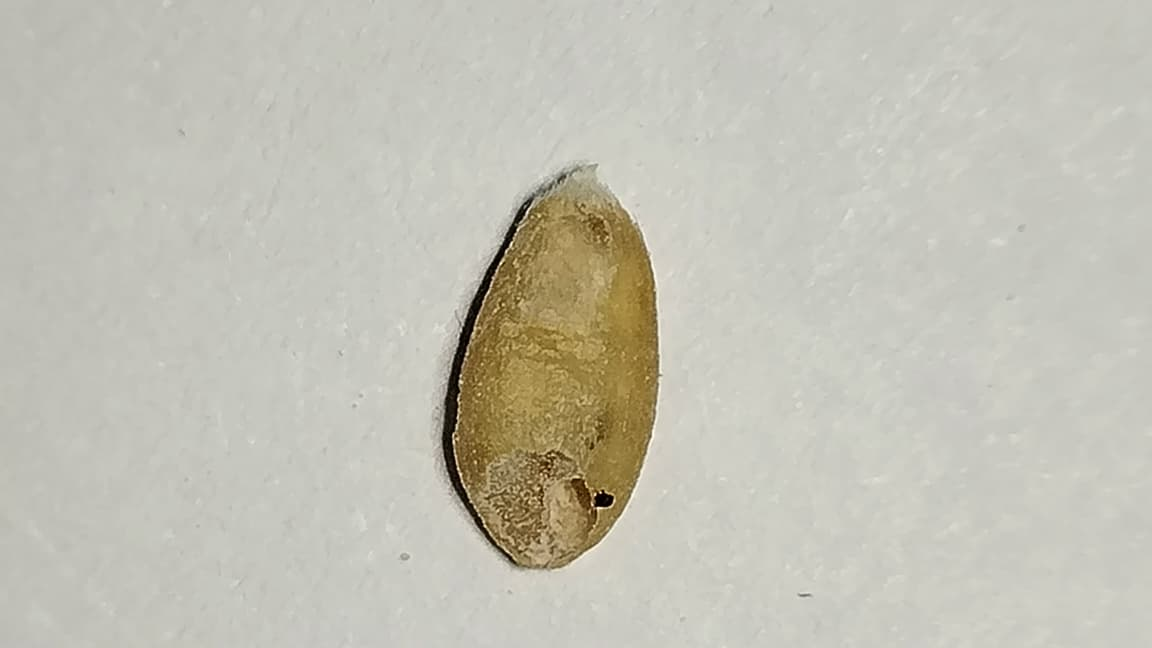damage: (442, 195, 658, 568)
insectdamage: (470, 448, 614, 568)
